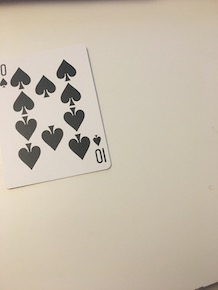TenOfSpades: (1, 40, 115, 192)
